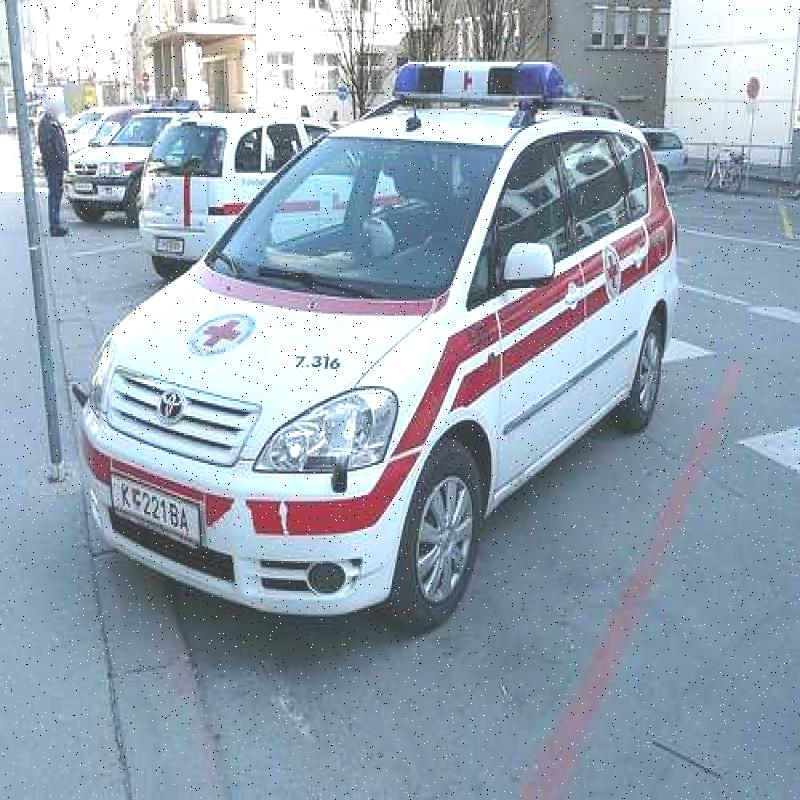AmbulanceSiren: (384, 25, 576, 123)
